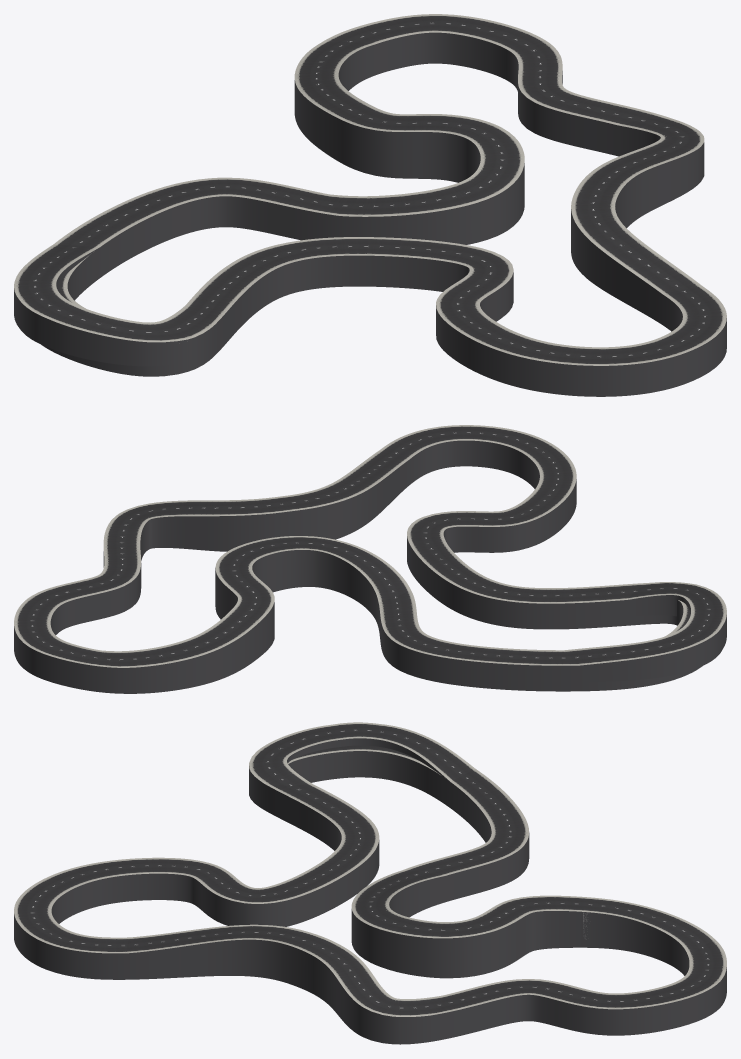
File: Road02.fbx
3 views of the same model, one above another, from view 1: azimuth 30°, elevation 25°; view 2: azimuth 150°, elevation 25°; view 3: azimuth 270°, elevation 25° (orthographic). The views are drawn at different scales.
Visible parts, largest first — view 1: Road02_Bottom (×2), Road02_Flat, Road02; view 2: Road02_Bottom (×2), Road02_Flat, Road02; view 3: Road02_Bottom (×2), Road02_Flat, Road02.
Boxes of the visible parts, x1,y1,x2,y2 form: Road02_Bottom (×2): [14, 32, 726, 396]; Road02_Flat: [53, 14, 726, 365]; Road02: [14, 42, 704, 342]; Road02_Bottom (×2): [14, 440, 726, 693]; Road02_Flat: [14, 425, 690, 667]; Road02: [102, 450, 726, 667]; Road02_Bottom (×2): [14, 738, 726, 1044]; Road02_Flat: [14, 745, 726, 1015]; Road02: [126, 722, 712, 1016].
Size of what is drawn, in the model's own units: 14786 by 966 by 15448.
